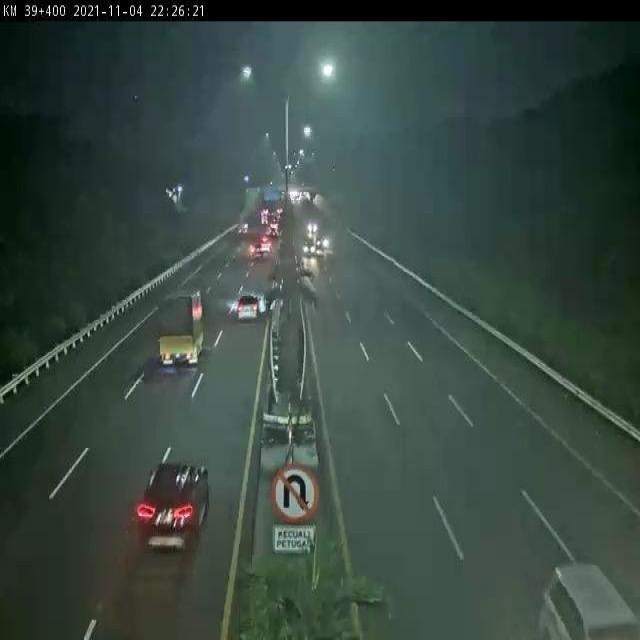car: (541, 562, 640, 640), (137, 460, 211, 549), (237, 293, 261, 320), (303, 238, 315, 258), (249, 241, 264, 256), (260, 235, 272, 253), (316, 238, 328, 250)
truck-m-: (159, 290, 204, 366)
